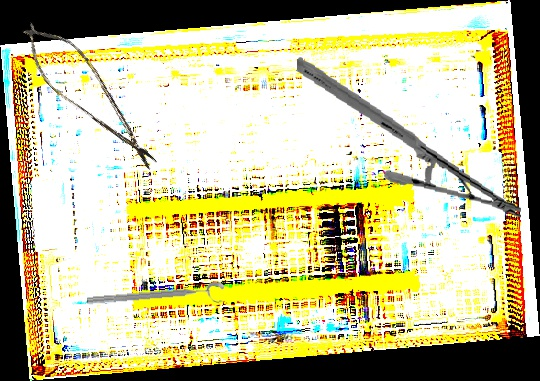Fixation Ring: (86, 281, 226, 316)
Micro Scissor: (8, 10, 173, 181)
Needle Holder: (285, 56, 533, 221)
